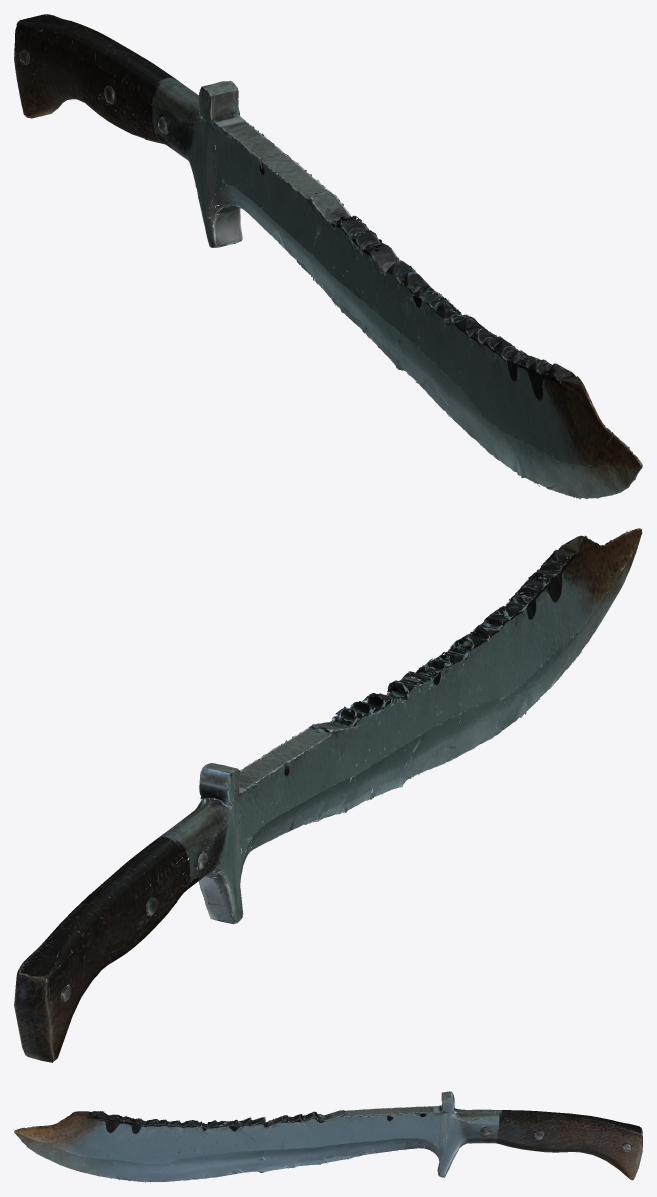
File: SerratedMachete.fbx
3 renders of one model, top to bottom at view 1: azimuth 30°, elevation 25°; view 2: azimuth 150°, elevation 25°; view 3: azimuth 270°, elevation 25°, orthographic. The views are drawn at different scales.
Visible parts, largest first — view 1: SerratedMachete; view 2: SerratedMachete; view 3: SerratedMachete.
Boxes of the visible parts, left/top/right/bottom form: SerratedMachete: left=14, top=14, right=642, bottom=499; SerratedMachete: left=14, top=528, right=642, bottom=1062; SerratedMachete: left=14, top=1091, right=642, bottom=1182.
Bounding box in the file's own units: 0.0479 × 0.1682 × 1.09.
Materials: 1 (1 with a texture image).
